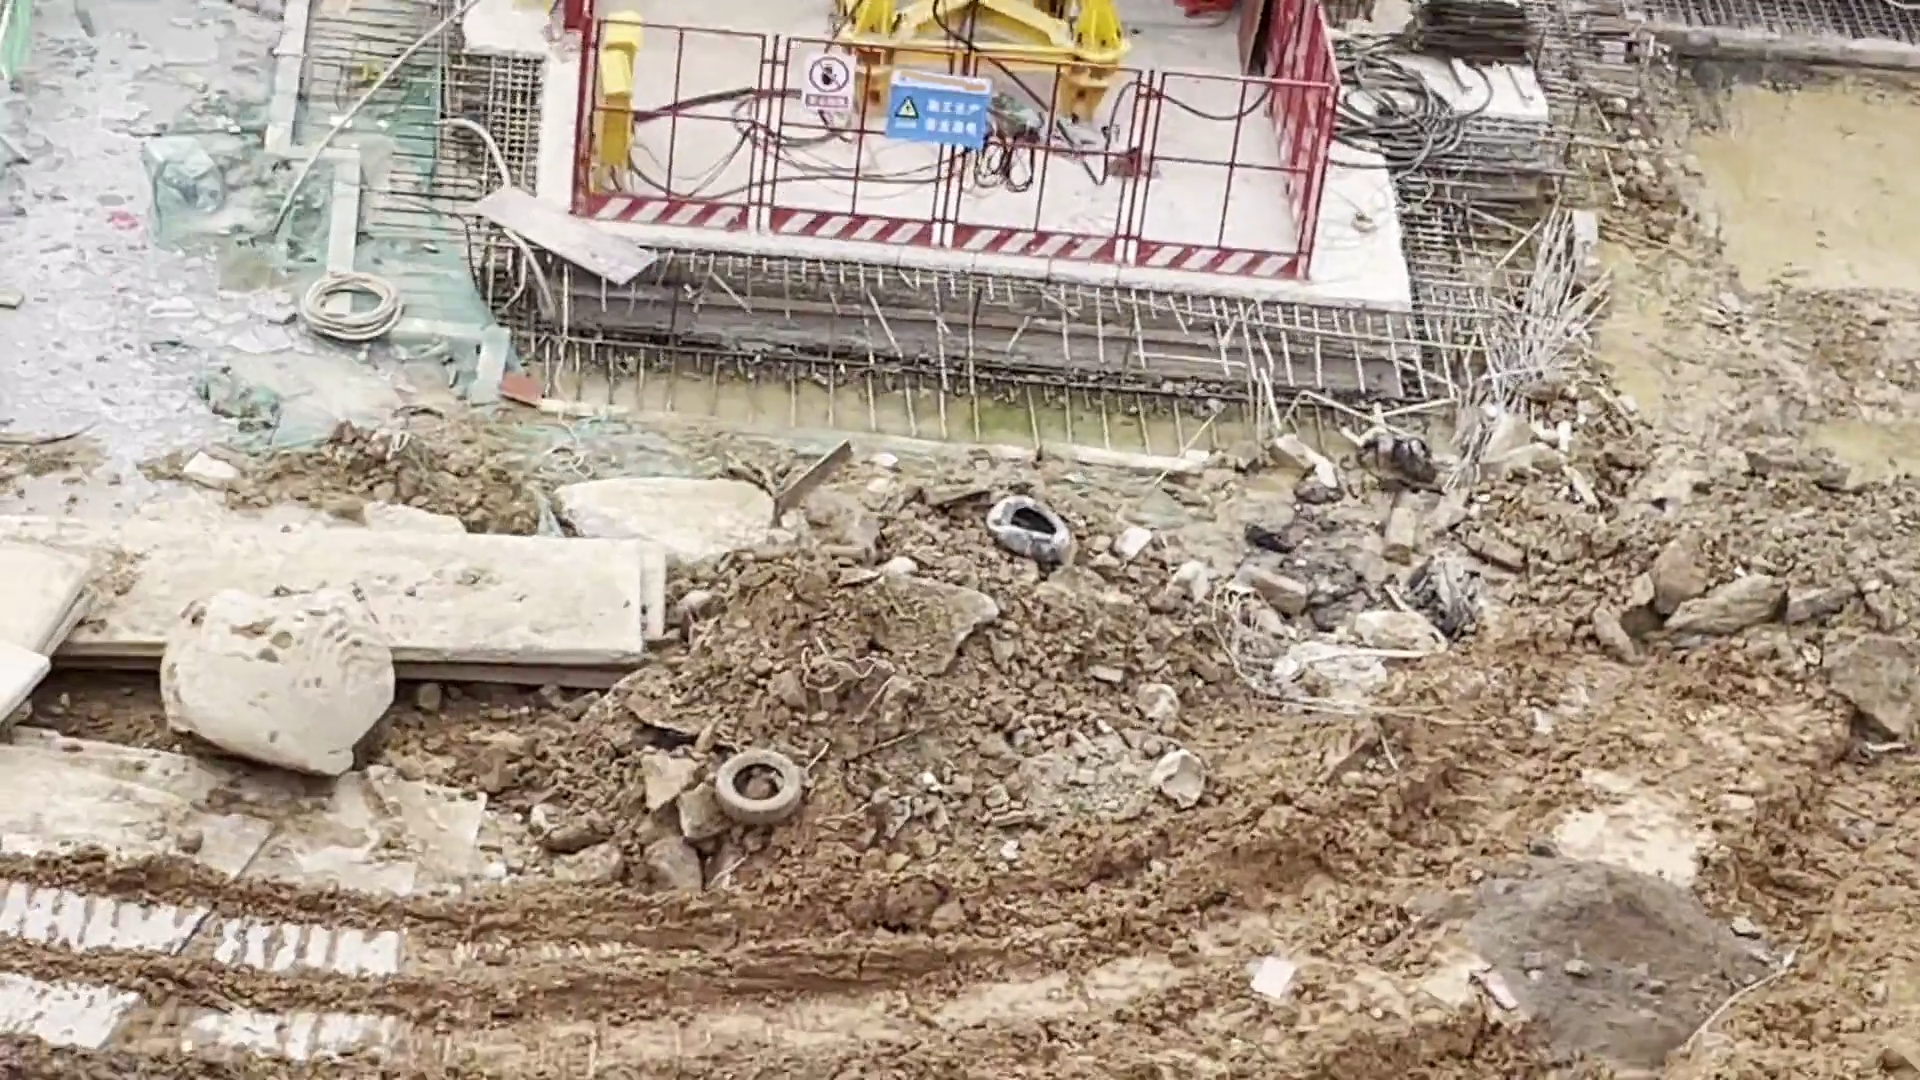ebox: (599, 12, 640, 187)
fence: (582, 11, 1332, 280)
slogan: (889, 76, 990, 146), (803, 55, 856, 108)
